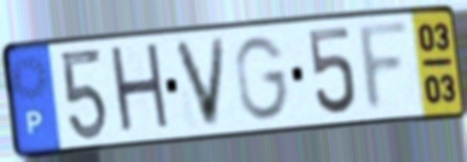5: (56, 47, 110, 143), (304, 24, 359, 118)
F: (355, 16, 414, 117)
G: (232, 33, 292, 123)
H: (106, 39, 175, 141)
V: (170, 33, 230, 131)
